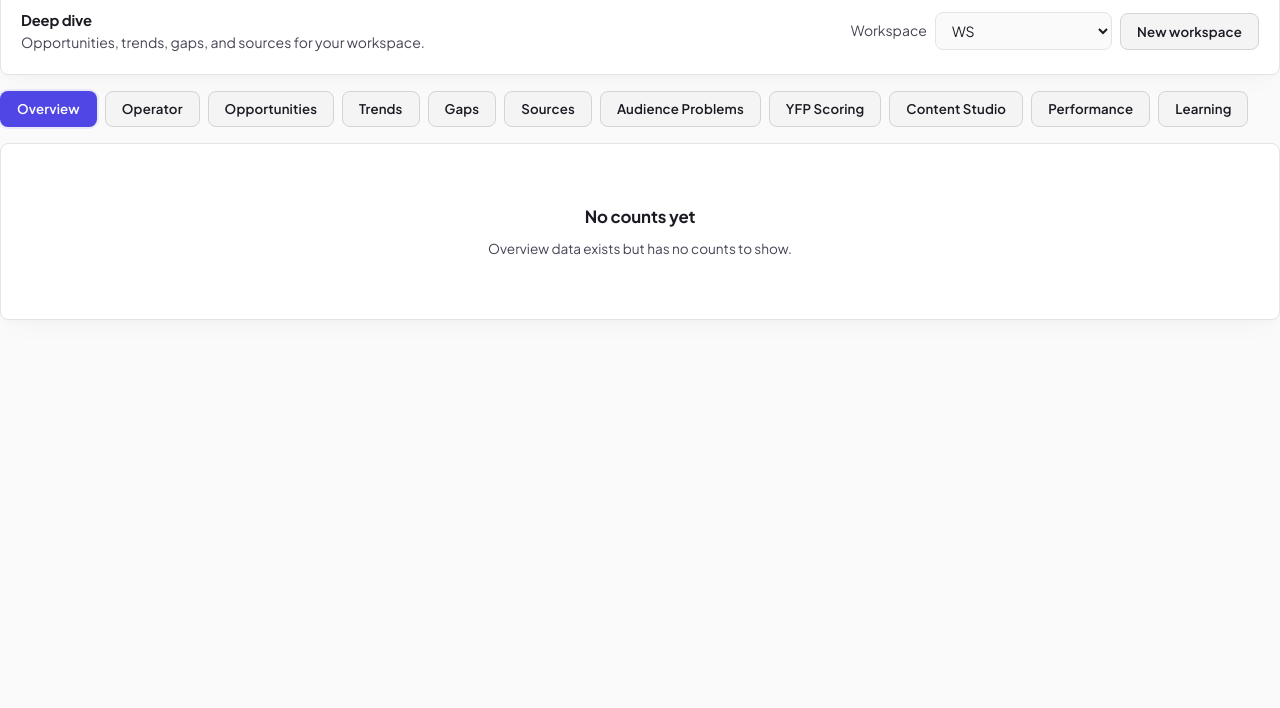
Scenario: BrainPage Sources & Connections (redesigned UX) › errored platforms show attention state with Reconnect and the honest backend error
Click the tab "Sources" at (548, 109), box [504,90,592,127]
(page scrolled)
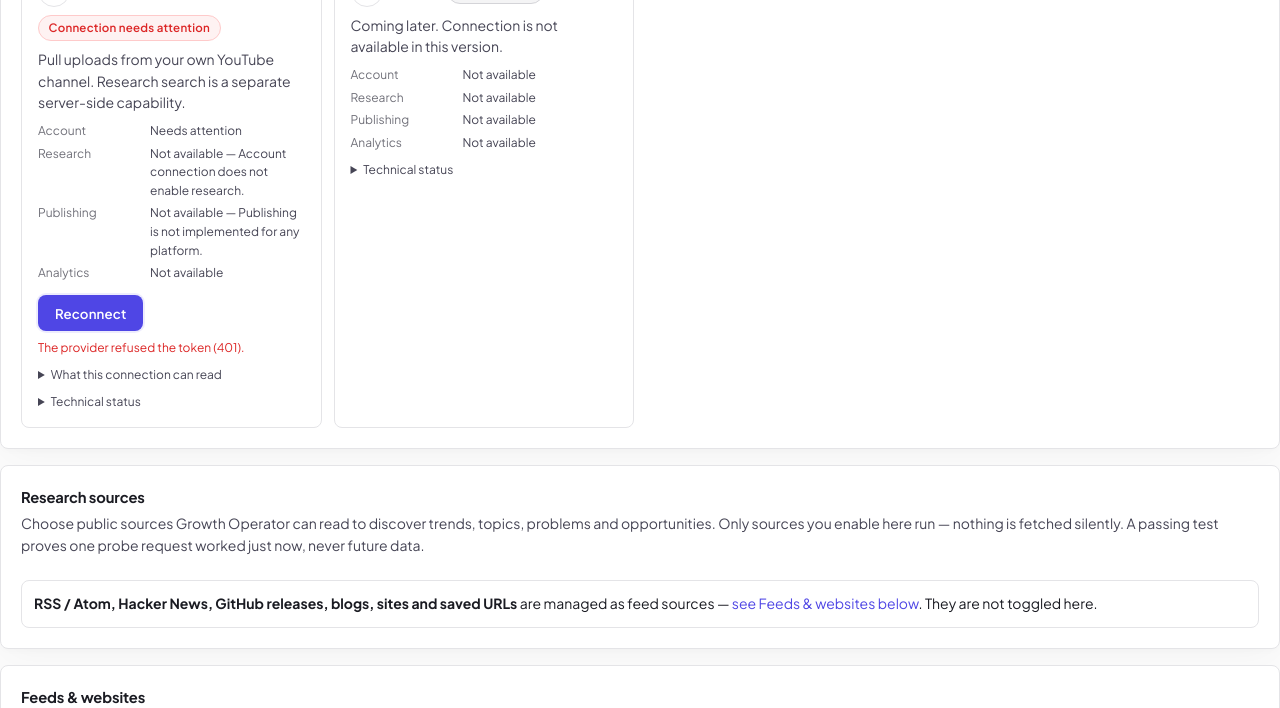
Result: the text "Connection needs attention" is shown at [38,15,221,41]
Result: the button "Reconnect" is shown at [38,295,143,331]
Result: the text "The provider refused the token (401)." is shown at [38,340,244,355]
